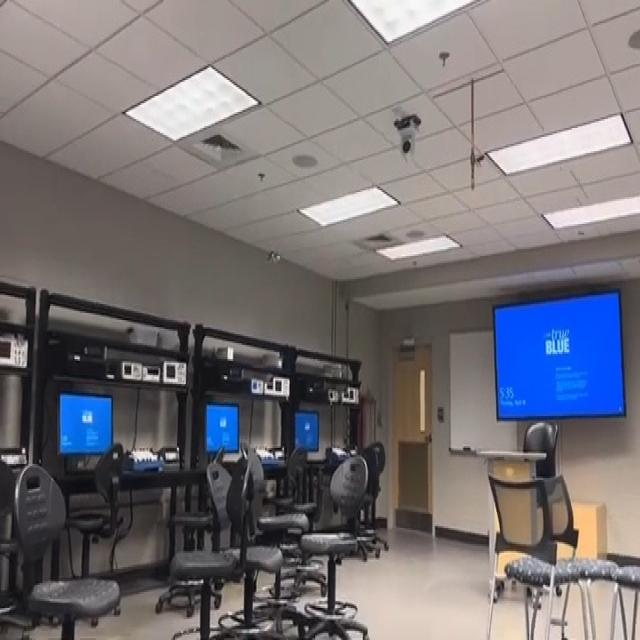drone: (262, 240, 290, 274)
